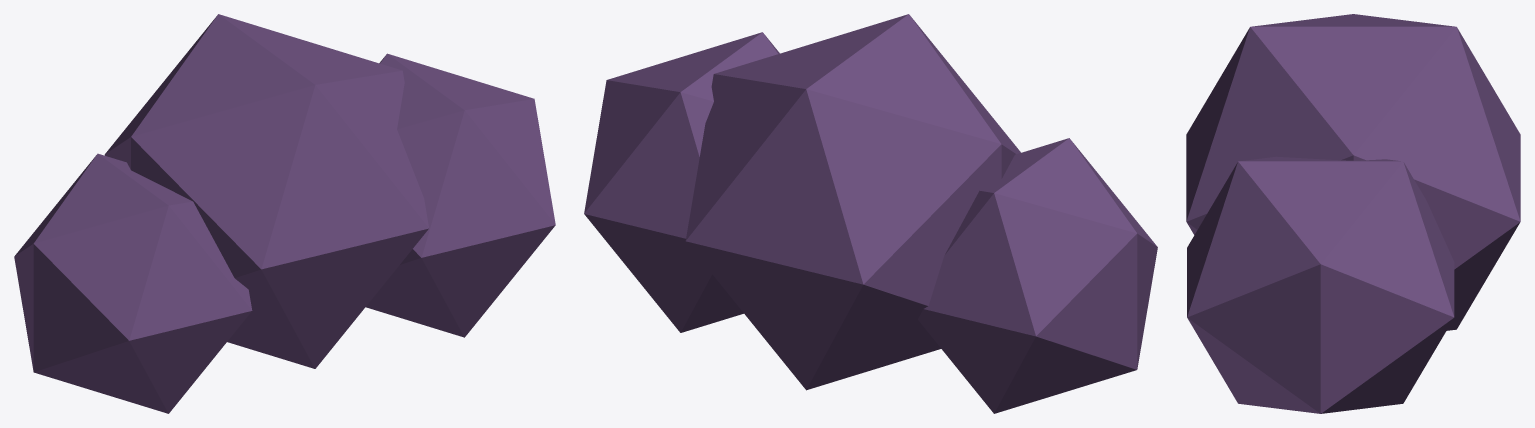
The model's file is puff.glb.
The picture shows the model from 3 angles, left to right: view 1: azimuth 30°, elevation 25°; view 2: azimuth 150°, elevation 25°; view 3: azimuth 270°, elevation 25°; orthographic projection. The views are drawn at different scales.
Visible parts, largest first — view 1: P0; view 2: P0; view 3: P0.
Boxes of the visible parts, box(x1,y1,x2,y2) form: P0: box(14, 14, 555, 413); P0: box(584, 14, 1157, 413); P0: box(1186, 14, 1520, 413).
Size of the model in its own units: 0.9413 by 0.5223 by 0.5104.
